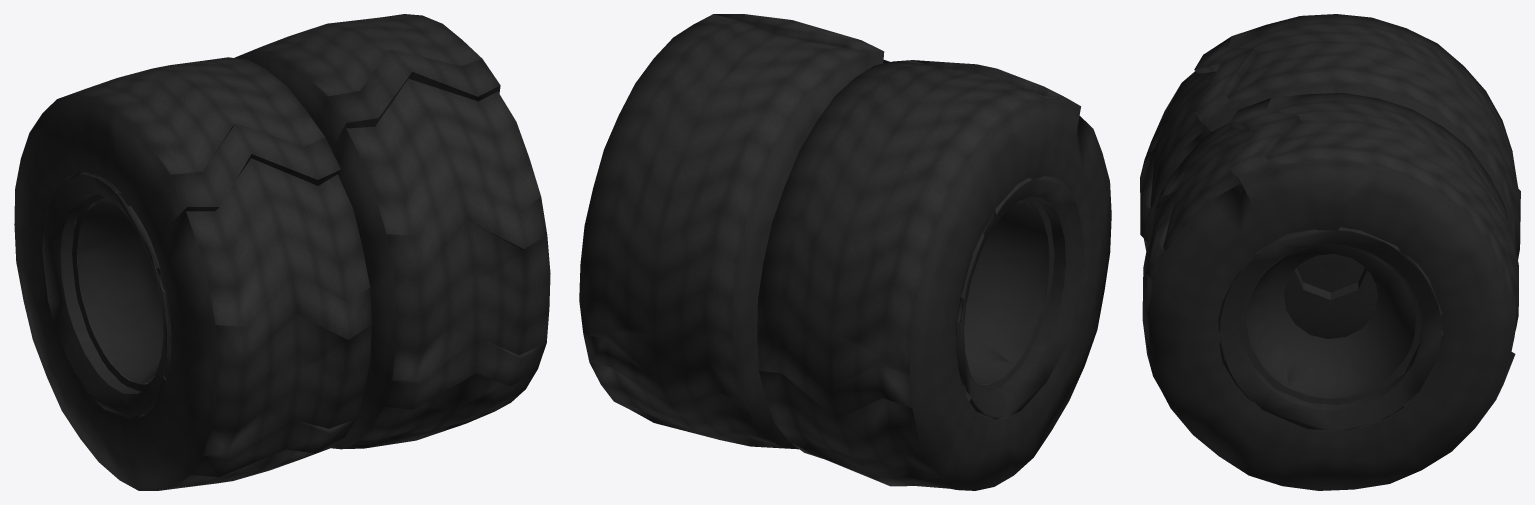
The model's file is TW_wheel_rear_d3.obj.
The picture shows the model from 3 angles, left to right: view 1: azimuth 30°, elevation 25°; view 2: azimuth 150°, elevation 25°; view 3: azimuth 270°, elevation 25°; orthographic projection. The views are drawn at different scales.
Parts seen in each view (by area): view 1: TW_wheel_rear_TW_wheel_rear_DefaultMaterial; view 2: TW_wheel_rear_TW_wheel_rear_DefaultMaterial; view 3: TW_wheel_rear_TW_wheel_rear_DefaultMaterial.
Part boxes in pixels (bbox=[...]): TW_wheel_rear_TW_wheel_rear_DefaultMaterial: bbox=[14, 14, 550, 490]; TW_wheel_rear_TW_wheel_rear_DefaultMaterial: bbox=[579, 14, 1111, 490]; TW_wheel_rear_TW_wheel_rear_DefaultMaterial: bbox=[1140, 14, 1520, 490].
Bounding box in the file's own units: 1.07 × 1.11 × 1.1.
Materials: 1 (1 with a texture image).
